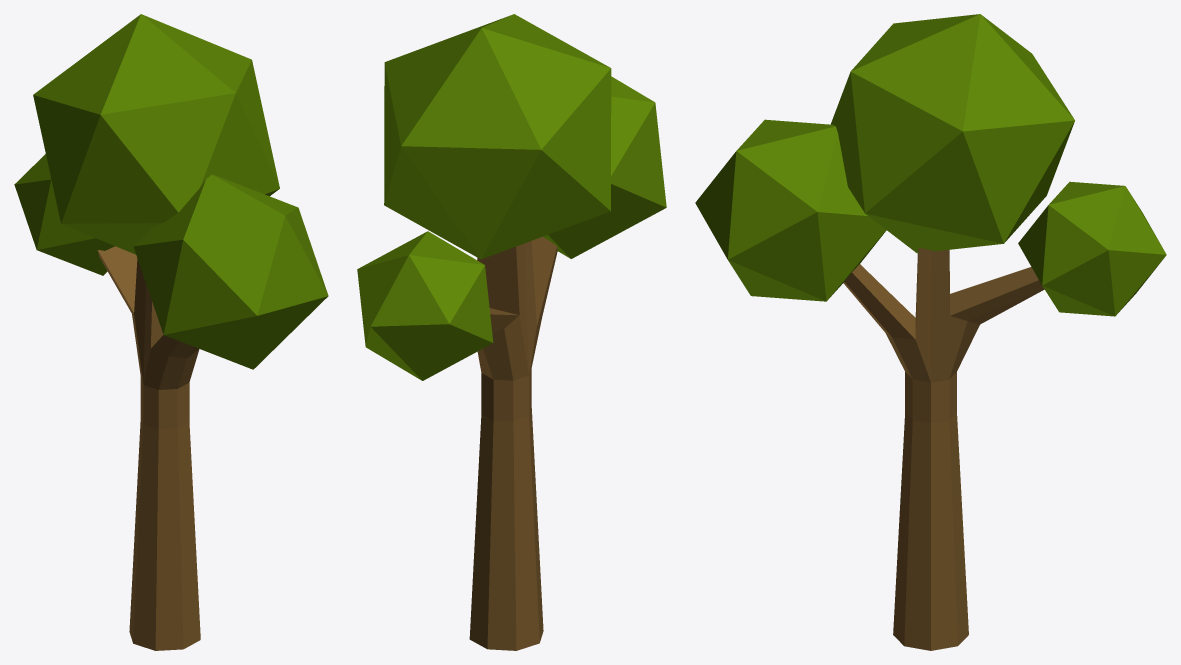
The model's file is Tree_004.fbx.
3 renders of one model, left to right at view 1: azimuth 30°, elevation 25°; view 2: azimuth 150°, elevation 25°; view 3: azimuth 270°, elevation 25°, orthographic. The views are drawn at different scales.
Visible parts, largest first — view 1: Tree_004; view 2: Tree_004; view 3: Tree_004.
Part boxes in pixels (x1,y1,x2,y2): Tree_004: (14,14,328,650); Tree_004: (357,14,666,650); Tree_004: (695,14,1166,650).
Bounding box in the file's own units: 90.75 × 256 × 176.
